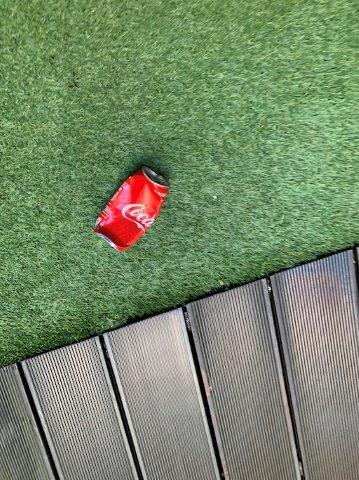kaleng: (97, 167, 167, 249)
